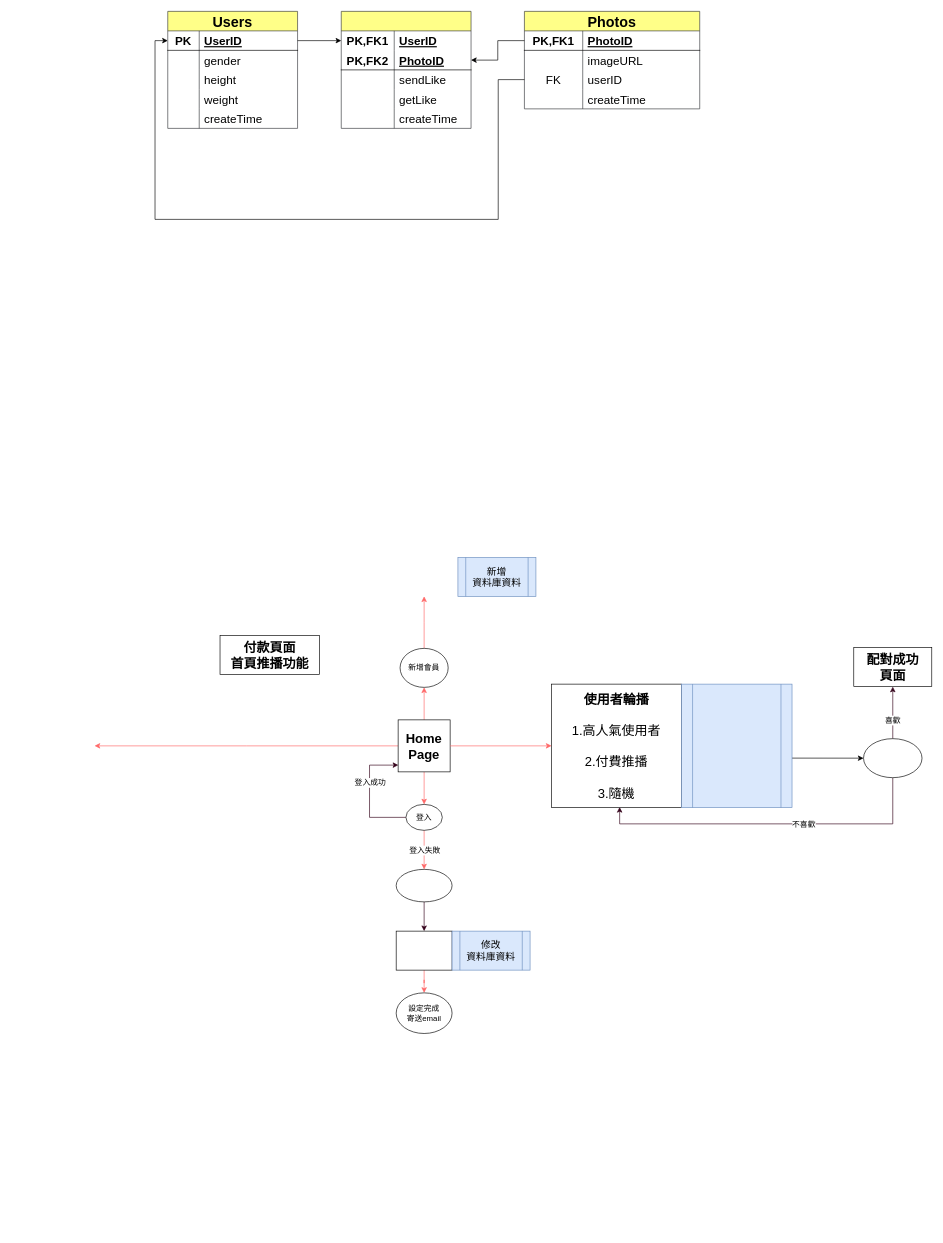
This 943x1243 diagram has some shape labels left out. Each missing label, with the box of its shape:
Likes: (341, 11, 471, 128)
喜歡/不喜歡: (863, 738, 922, 778)
查詢 資料庫資料 (非使用者主動查詢): (681, 683, 792, 808)
設定頁面: (396, 930, 452, 970)
重設 帳號密碼 功能: (396, 869, 452, 902)
